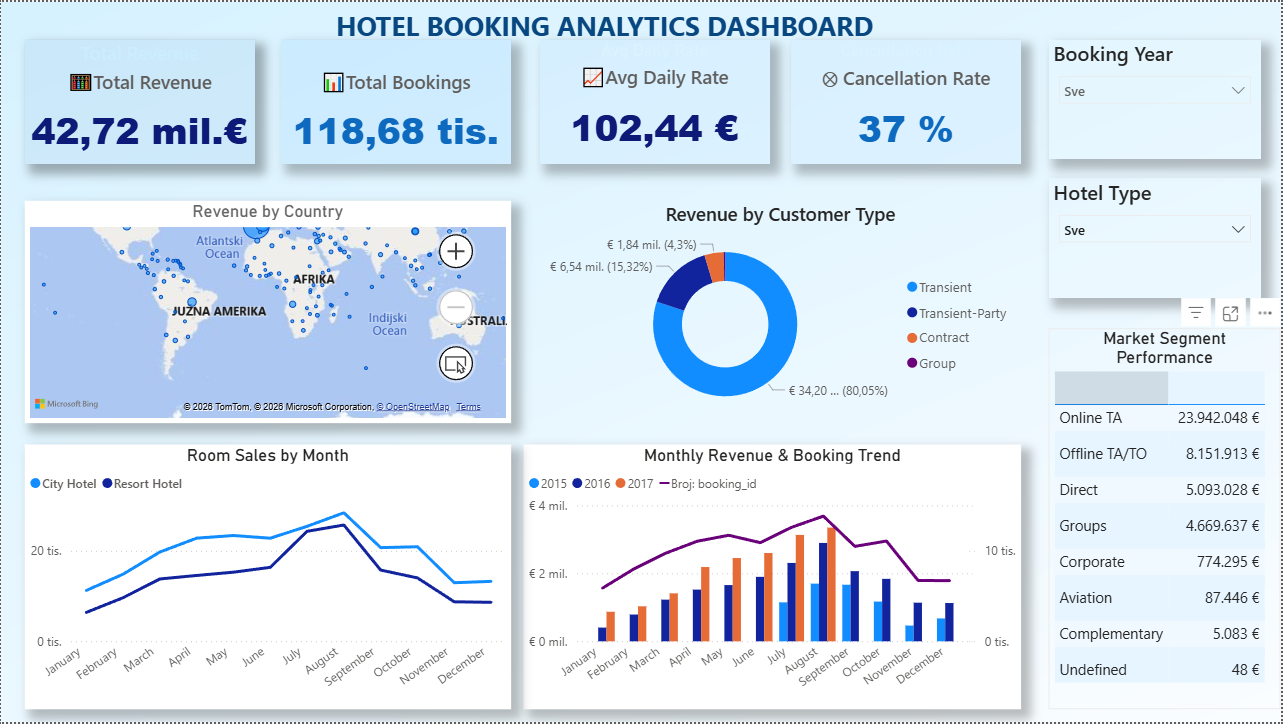

The page's visual inventory and layout, read from the dashboard file:
{"tool":"powerbi","page":{"name":"Stranica 1","canvas":[1280,720],"ordinal":0},"visuals":[{"type":"card","title":"Total Revenue","fields":{"Values":["Sum(hotel_dwh fact_bookings.revenue)"]},"box":[23.3,38,230,125],"z":0},{"type":"map","title":"Revenue by Country","fields":{"Category":["hotel_dwh dim_customer.country"],"Size":["Sum(hotel_dwh fact_bookings.revenue)"]},"box":[23.8,199.2,486.2,222.5],"z":1000},{"type":"slicer","title":"Booking Year","fields":{"Values":["hotel_dwh dim_date.year"]},"box":[1047.5,38,212.5,120],"z":2000},{"type":"slicer","title":"Hotel Type","fields":{"Values":["hotel_dwh dim_hotel.hotel_name"]},"box":[1047.5,176.7,212.5,120],"z":3000},{"type":"card","title":"a","fields":{"Values":["CountNonNull(hotel_dwh fact_bookings.booking_id)"]},"box":[280,38,230,125],"z":4000},{"type":"card","title":"Avg Daily Rate","fields":{"Values":["Avg(hotel_dwh fact_bookings.adr)"]},"box":[538.3,38,230,125],"z":5000},{"type":"card","title":"Cancellation Rate","fields":{"Values":["hotel_dwh fact_bookings.Cancellation Rate"]},"box":[790,38,230,125],"z":6000},{"type":"tableEx","title":"Market Segment Performance","fields":{"Values":["hotel_dwh dim_hotel.market_segment","Sum(hotel_dwh fact_bookings.revenue)"]},"box":[1047.5,326.7,232.5,381.2],"z":7000},{"type":"donutChart","title":"Revenue by Customer Type","fields":{"Category":["hotel_dwh dim_customer.customer_type"],"Y":["Sum(hotel_dwh fact_bookings.revenue)"]},"box":[538.8,199.2,481.2,222.5],"z":8000},{"type":"lineClusteredColumnComboChart","title":"Monthly Revenue & Booking Trend","fields":{"Category":["hotel_dwh dim_date.month_name"],"Y":["Sum(hotel_dwh fact_bookings.revenue)"],"Y2":["CountNonNull(hotel_dwh fact_bookings.booking_id)"],"Series":["hotel_dwh dim_date.year"]},"box":[522.5,443,497.5,265],"z":9000},{"type":"lineChart","title":"Room Sales by Month","fields":{"Category":["hotel_dwh dim_date.month_name"],"Y":["hotel_dwh fact_bookings.Room Nights Sold"],"Series":["hotel_dwh dim_hotel.hotel_name"]},"box":[23.8,443,486.2,265],"z":10000},{"type":"textbox","box":[330,0,950,52.5],"z":11000}]}

Visuals, with their boxes in screenshot pixels (x1, y1, x2, y2), scaled from the page's 1280x720 canvas onto the 1283x724 screenshot:
"Total Revenue" card: (23,38,254,164)
"Revenue by Country" map: (24,200,511,424)
"Booking Year" slicer: (1050,38,1263,159)
"Hotel Type" slicer: (1050,178,1263,298)
"a" card: (281,38,511,164)
"Avg Daily Rate" card: (540,38,770,164)
"Cancellation Rate" card: (792,38,1022,164)
"Market Segment Performance" tableEx: (1050,329,1282,712)
"Revenue by Customer Type" donutChart: (540,200,1022,424)
"Monthly Revenue & Booking Trend" lineClusteredColumnComboChart: (524,445,1022,712)
"Room Sales by Month" lineChart: (24,445,511,712)
textbox: (331,0,1282,53)
